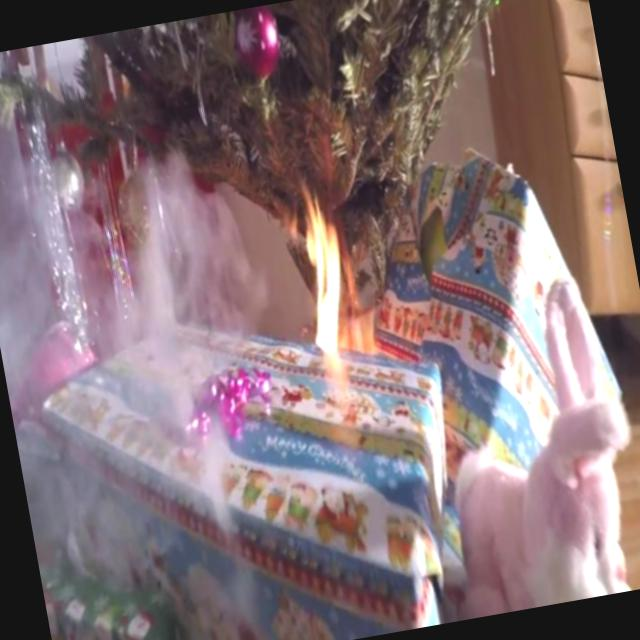smoke: (0, 222, 223, 535)
